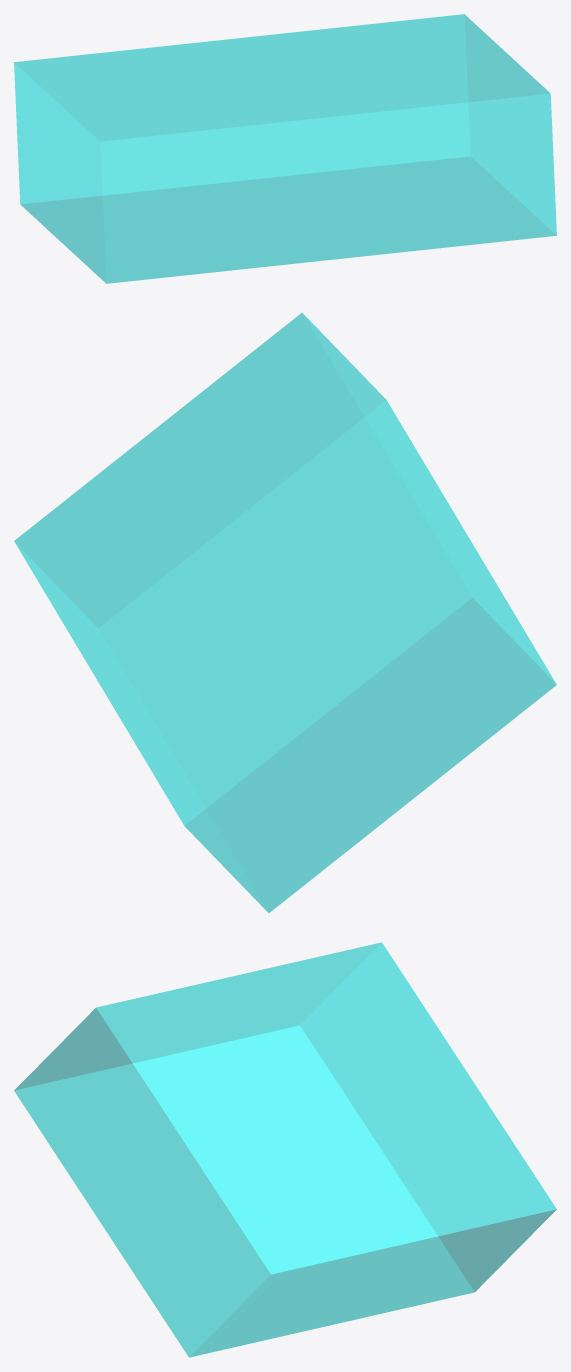
Rendered from SM_Bld_Plane_Crash_01_Debris_01_Collision.fbx.
3 renders of one model, top to bottom at view 1: azimuth 30°, elevation 25°; view 2: azimuth 150°, elevation 25°; view 3: azimuth 270°, elevation 25°, orthographic. The views are drawn at different scales.
Visible parts, largest first — view 1: SM_Bld_Plane_Crash_01_Debris_01_Collision; view 2: SM_Bld_Plane_Crash_01_Debris_01_Collision; view 3: SM_Bld_Plane_Crash_01_Debris_01_Collision.
Part boxes in pixels (left/top/right/bottom): SM_Bld_Plane_Crash_01_Debris_01_Collision: left=14, top=14, right=556, bottom=283; SM_Bld_Plane_Crash_01_Debris_01_Collision: left=14, top=313, right=556, bottom=912; SM_Bld_Plane_Crash_01_Debris_01_Collision: left=14, top=942, right=556, bottom=1357.
Bounding box in the file's own units: 382 × 263 × 357.
